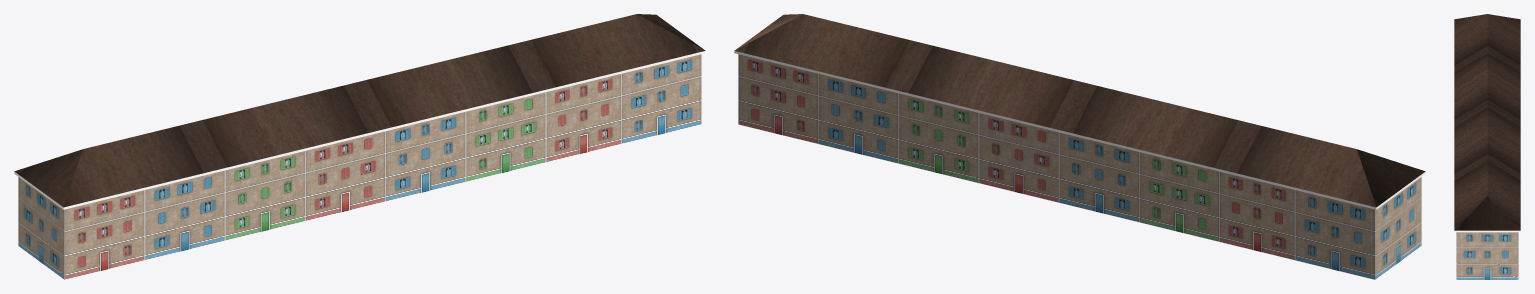
Rendered from longHouse.obj.
3 renders of one model, left to right at view 1: azimuth 30°, elevation 25°; view 2: azimuth 150°, elevation 25°; view 3: azimuth 270°, elevation 25°, orthographic. The views are drawn at different scales.
Parts seen in each view (by area): view 1: TriangleBlock; view 2: TriangleBlock; view 3: TriangleBlock.
Boxes of the visible parts, x1,y1,x2,y2 form: TriangleBlock: [14, 14, 705, 279]; TriangleBlock: [734, 14, 1425, 279]; TriangleBlock: [1454, 14, 1520, 279].
Size of the model in its own units: 84.2 by 13 by 11.2.
